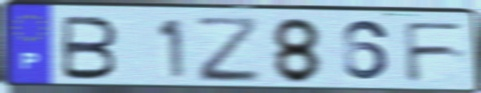1: (154, 17, 187, 81)
6: (340, 18, 392, 85)
8: (269, 16, 326, 86)
B: (59, 14, 121, 82)
F: (400, 20, 470, 85)
Z: (192, 15, 265, 85)
